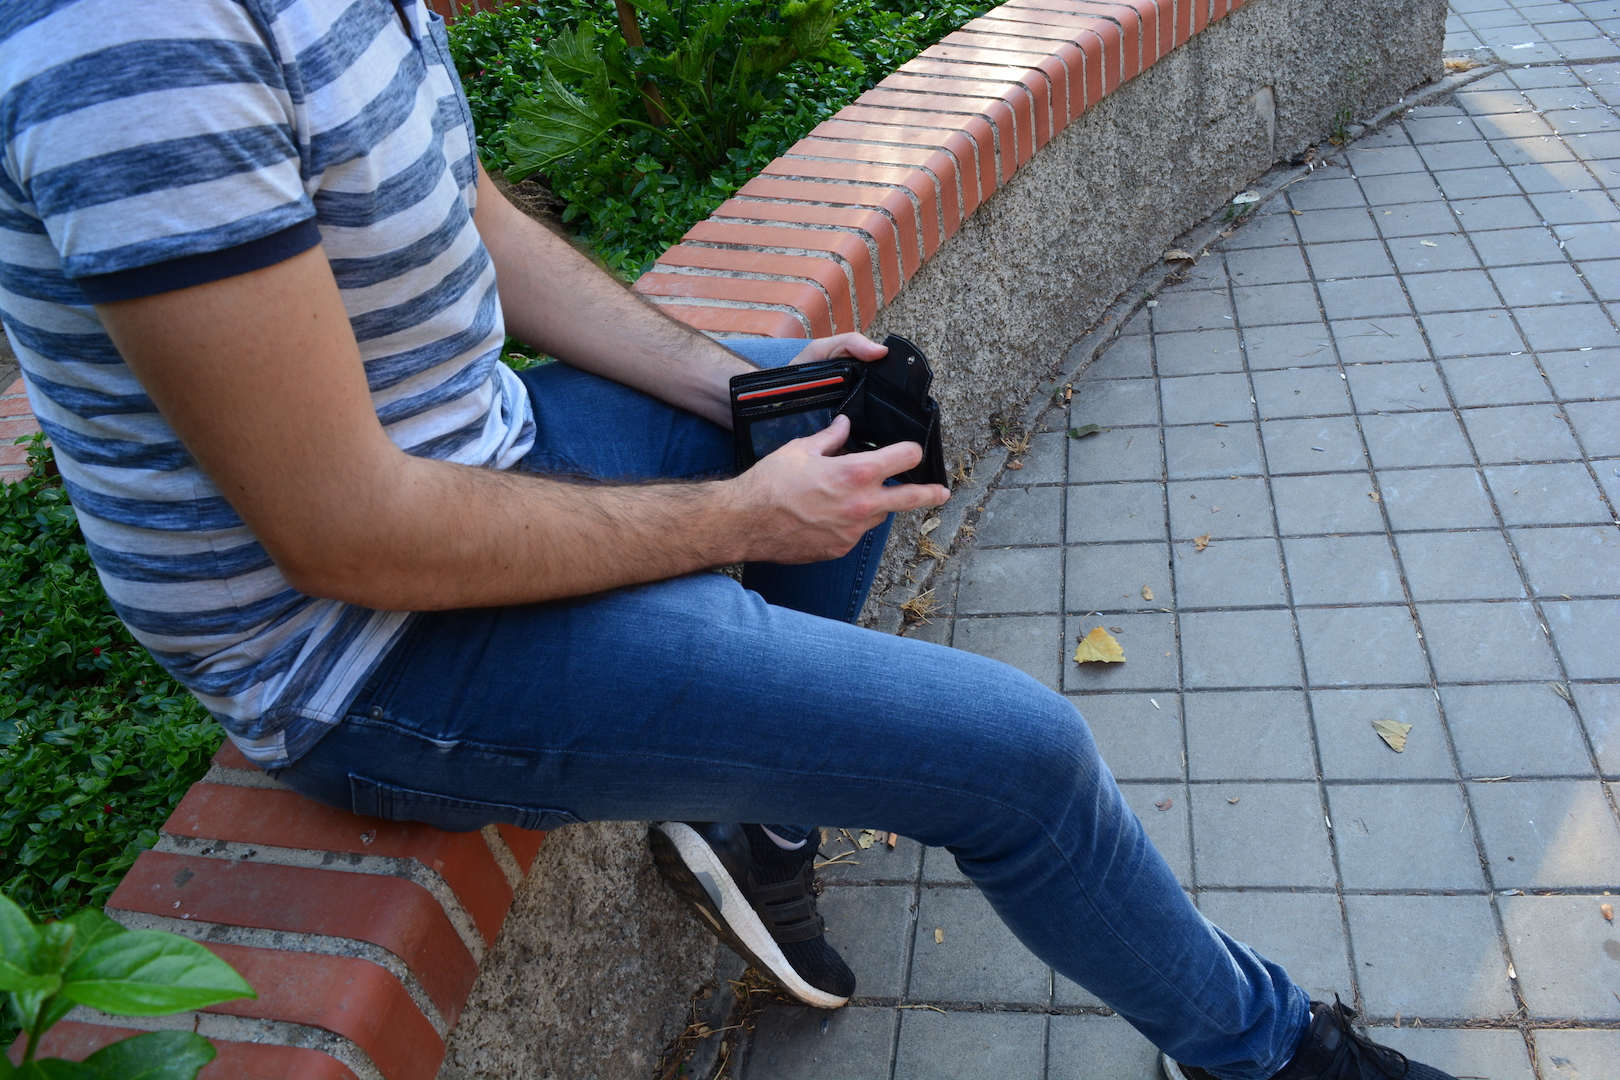monedero: (728, 333, 953, 491)
